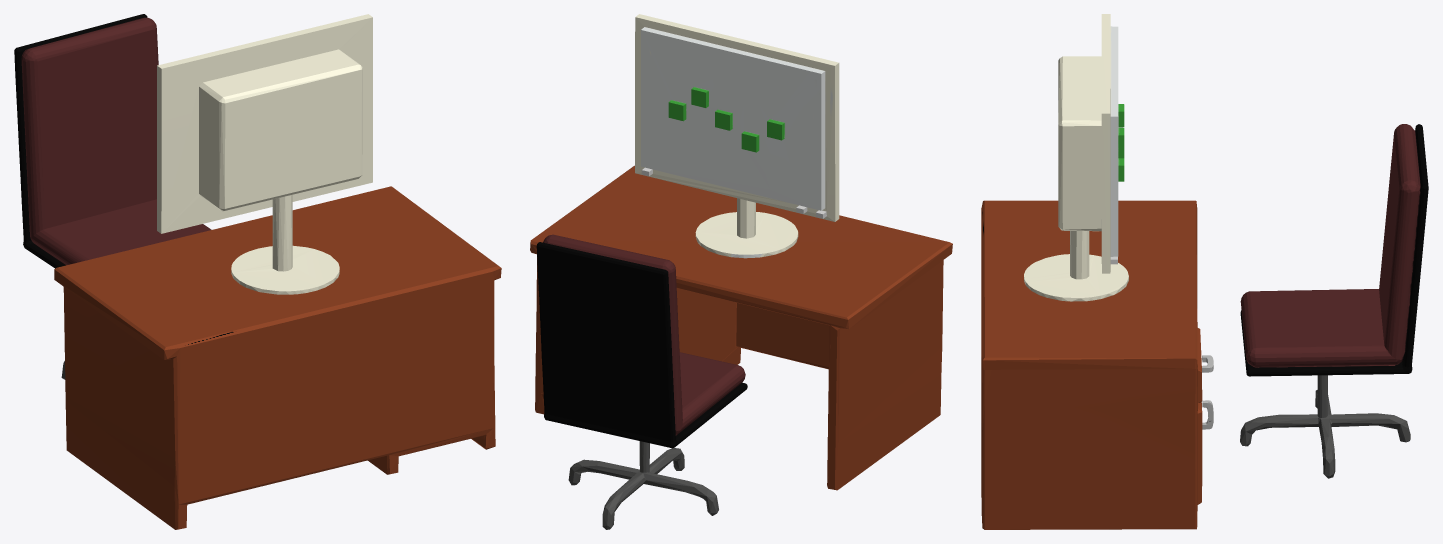
Rendered from monitorMitSchreibtischUndStuhl.glb.
3 views of the same model, side by side, from view 1: azimuth 30°, elevation 25°; view 2: azimuth 150°, elevation 25°; view 3: azimuth 270°, elevation 25° (orthographic). The views are drawn at different scales.
Parts seen in each view (by area): view 1: 282367_23_05_24_18_12_22_3, 283473_23_05_27_07_39_30_0, 282318_23_05_24_17_51_35_0; view 2: 282367_23_05_24_18_12_22_3, 283473_23_05_27_07_39_30_0, 282318_23_05_24_17_51_35_0, 282318_23_05_24_17_51_35_1; view 3: 282367_23_05_24_18_12_22_3, 282318_23_05_24_17_51_35_0, 283473_23_05_27_07_39_30_0, 282318_23_05_24_17_51_35_1.
Boxes of the visible parts, left/top/right/bottom form: 282367_23_05_24_18_12_22_3: left=54, top=186, right=501, bottom=529; 283473_23_05_27_07_39_30_0: left=157, top=14, right=372, bottom=294; 282318_23_05_24_17_51_35_0: left=14, top=14, right=211, bottom=268; 282367_23_05_24_18_12_22_3: left=530, top=165, right=952, bottom=490; 283473_23_05_27_07_39_30_0: left=635, top=14, right=839, bottom=258; 282318_23_05_24_17_51_35_0: left=536, top=234, right=747, bottom=472; 282318_23_05_24_17_51_35_1: left=568, top=448, right=718, bottom=529; 282367_23_05_24_18_12_22_3: left=981, top=200, right=1202, bottom=529; 282318_23_05_24_17_51_35_0: left=1240, top=124, right=1428, bottom=417; 283473_23_05_27_07_39_30_0: left=1024, top=14, right=1128, bottom=301; 282318_23_05_24_17_51_35_1: left=1240, top=390, right=1410, bottom=478.
Bounding box in the file's own units: 8.54 × 9.8 × 10.13.
Materials: 6 (6 with a texture image).
